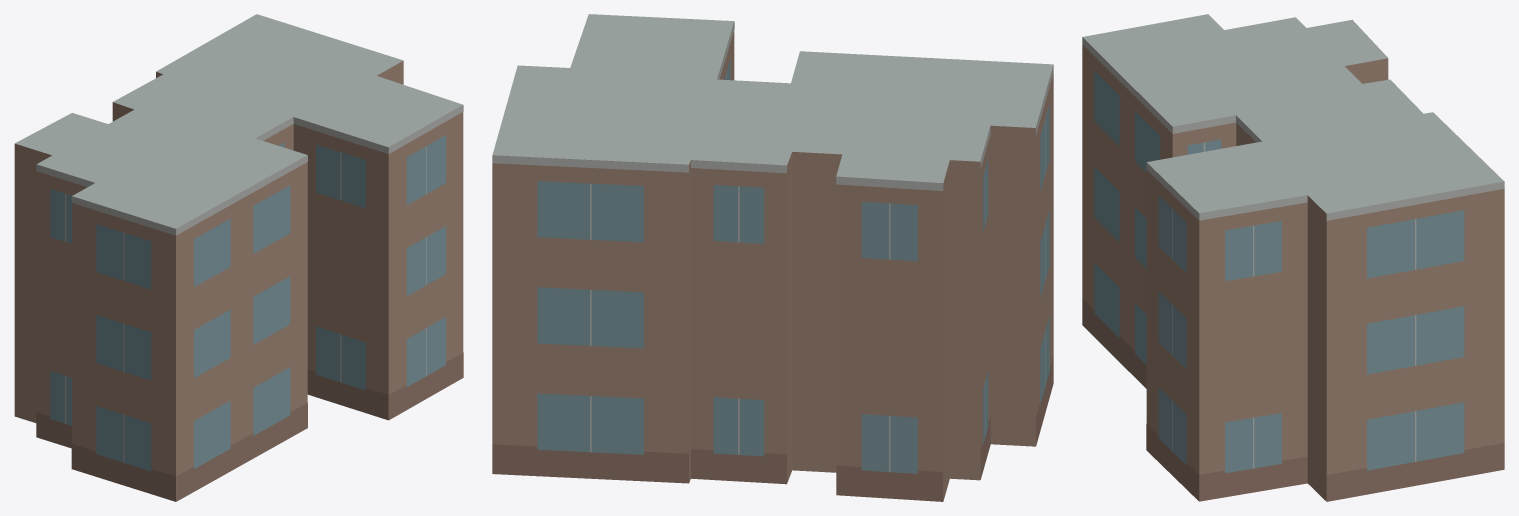
Rendered from survey-upis-32525315.glb.
The picture shows the model from 3 angles, left to right: view 1: azimuth 30°, elevation 25°; view 2: azimuth 150°, elevation 25°; view 3: azimuth 270°, elevation 25°; orthographic projection. The views are drawn at different scales.
Visible parts, largest first — view 1: survey-upis-32525315.tmp; view 2: survey-upis-32525315.tmp; view 3: survey-upis-32525315.tmp.
Part boxes in pixels (box(x1,y1,x2,y2)): survey-upis-32525315.tmp: box(14, 14, 463, 501); survey-upis-32525315.tmp: box(492, 14, 1053, 501); survey-upis-32525315.tmp: box(1082, 14, 1504, 501).
Size of the model in its own units: 14.58 by 9.8 by 13.03.
